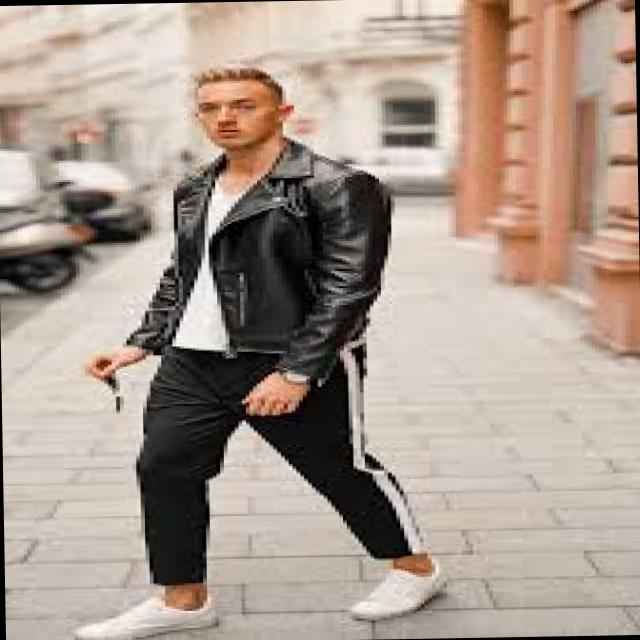Jacket: (96, 146, 432, 373)
